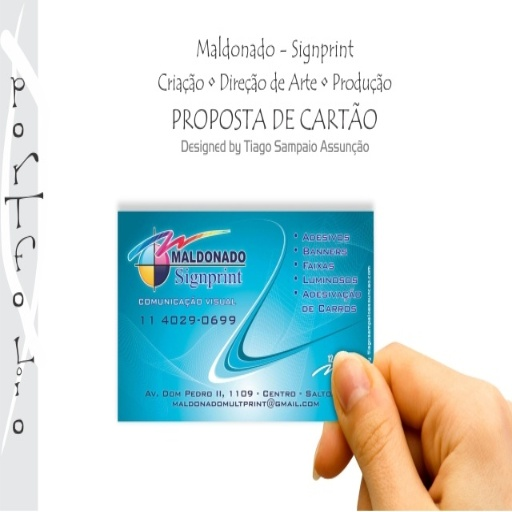hand: (288, 337, 512, 500)
